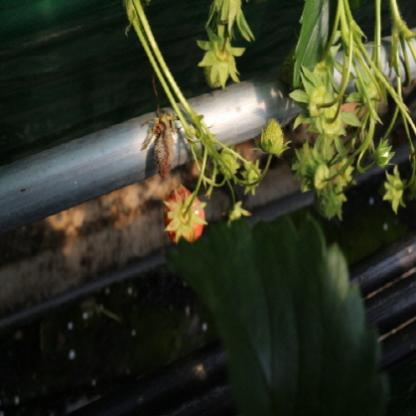Strawberry_Gray_Mold: (149, 110, 182, 180)
